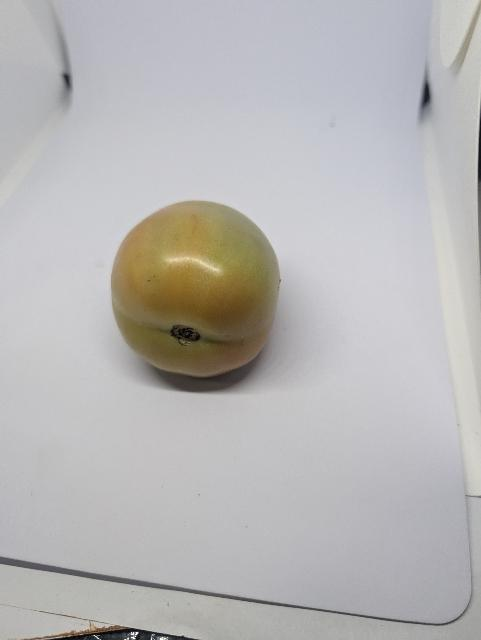breaker: (108, 196, 287, 379)
